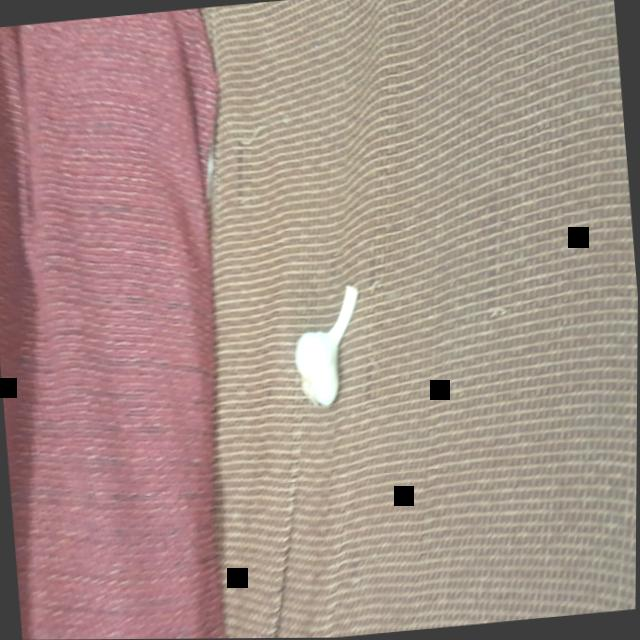garlic: (285, 283, 382, 412)
